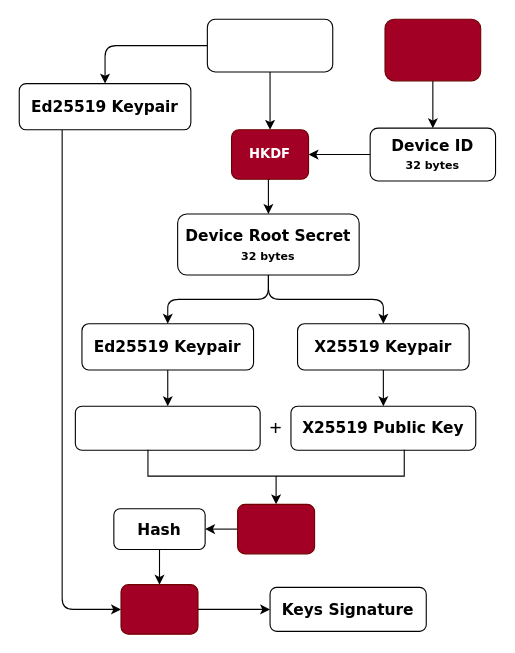
This 515x653 diagram has some shape labels left out. The shapes that lost their labels are listed below. From the top down, each one's box as (x1, y1, x2, y2) in pixels, then its label:
(206, 18, 333, 72): Master Key 32 bytes
(384, 18, 481, 81): Random Generator
(74, 405, 260, 450): Ed25519 Public Key
(237, 503, 315, 554): SHA256
(120, 584, 198, 634): Ed25519
